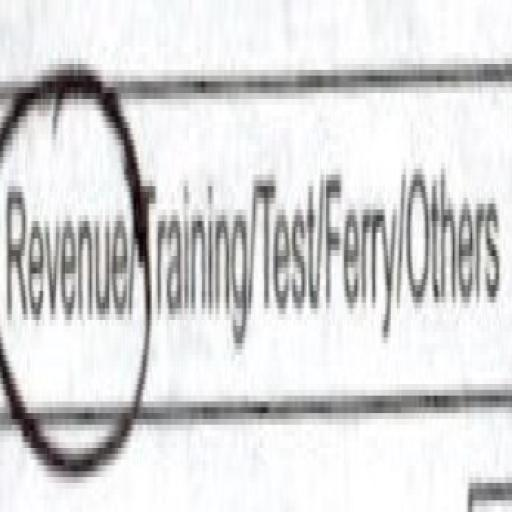check: (0, 20, 133, 512)
